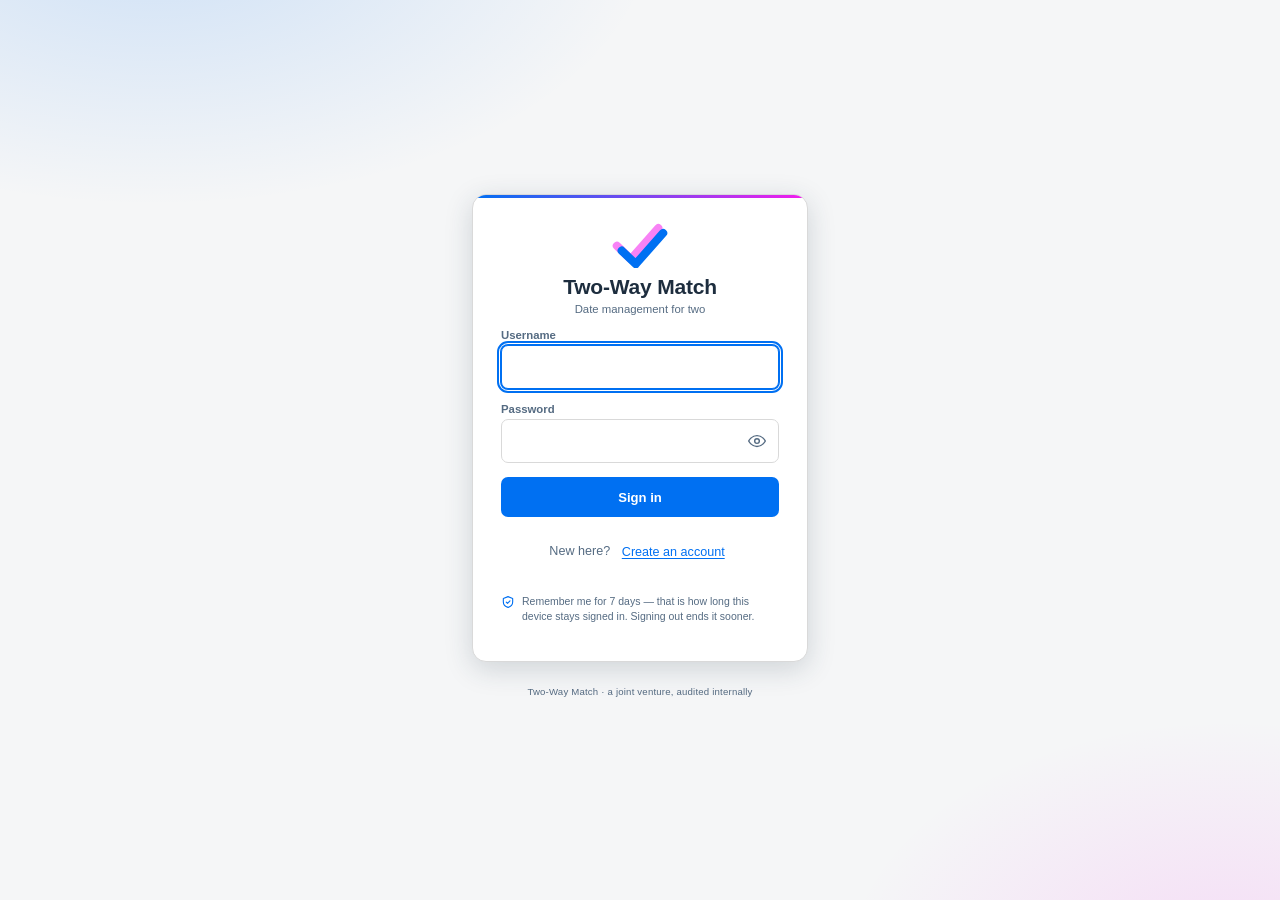
Test case: LoginPage › shows a failed login inline, with no alert and no navigation
Type "ada" into the field labelled "Username" at (640, 367), box [501,345,779,389]
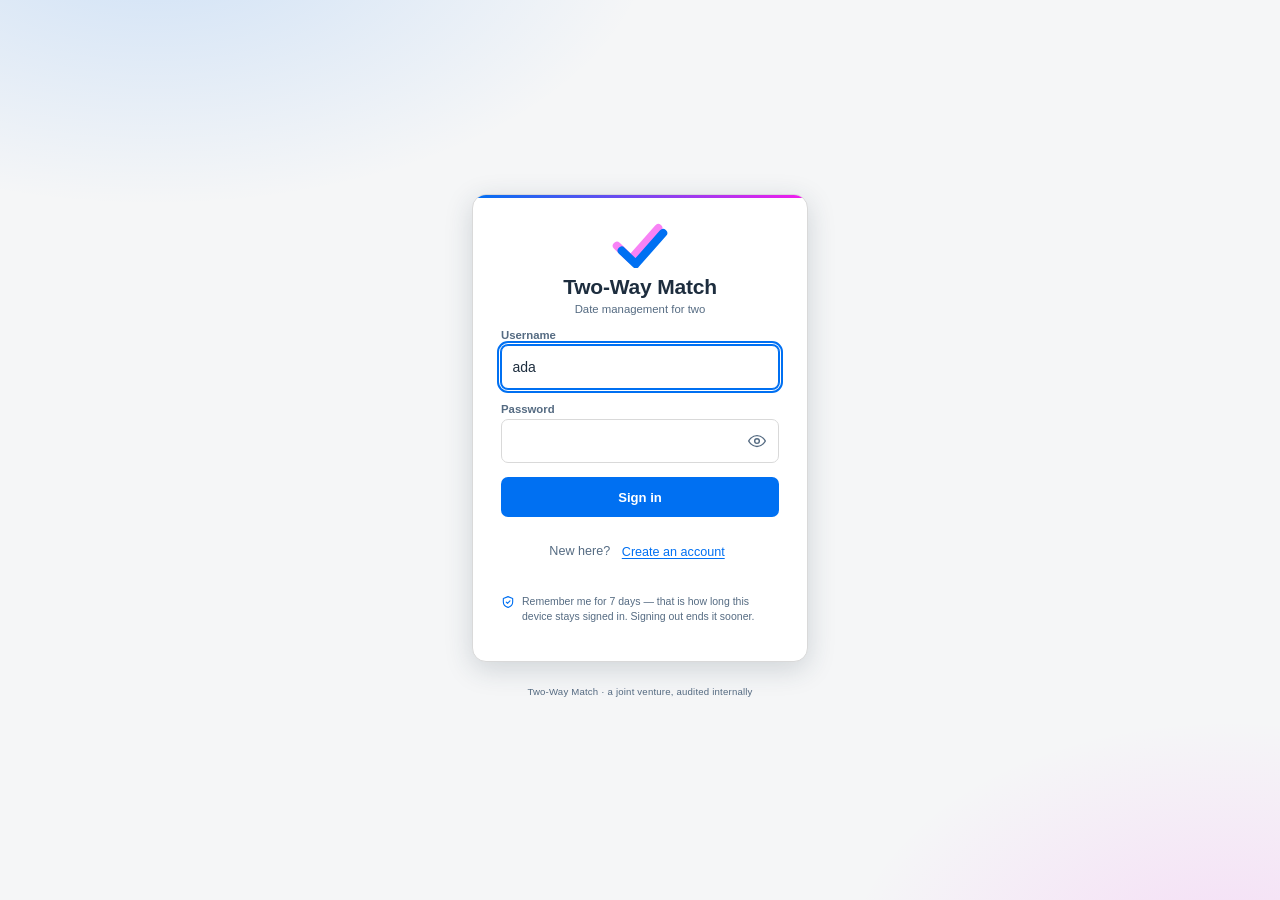
Type "wrong" into the password field labelled "Password" at (640, 441), box [501,419,779,463]
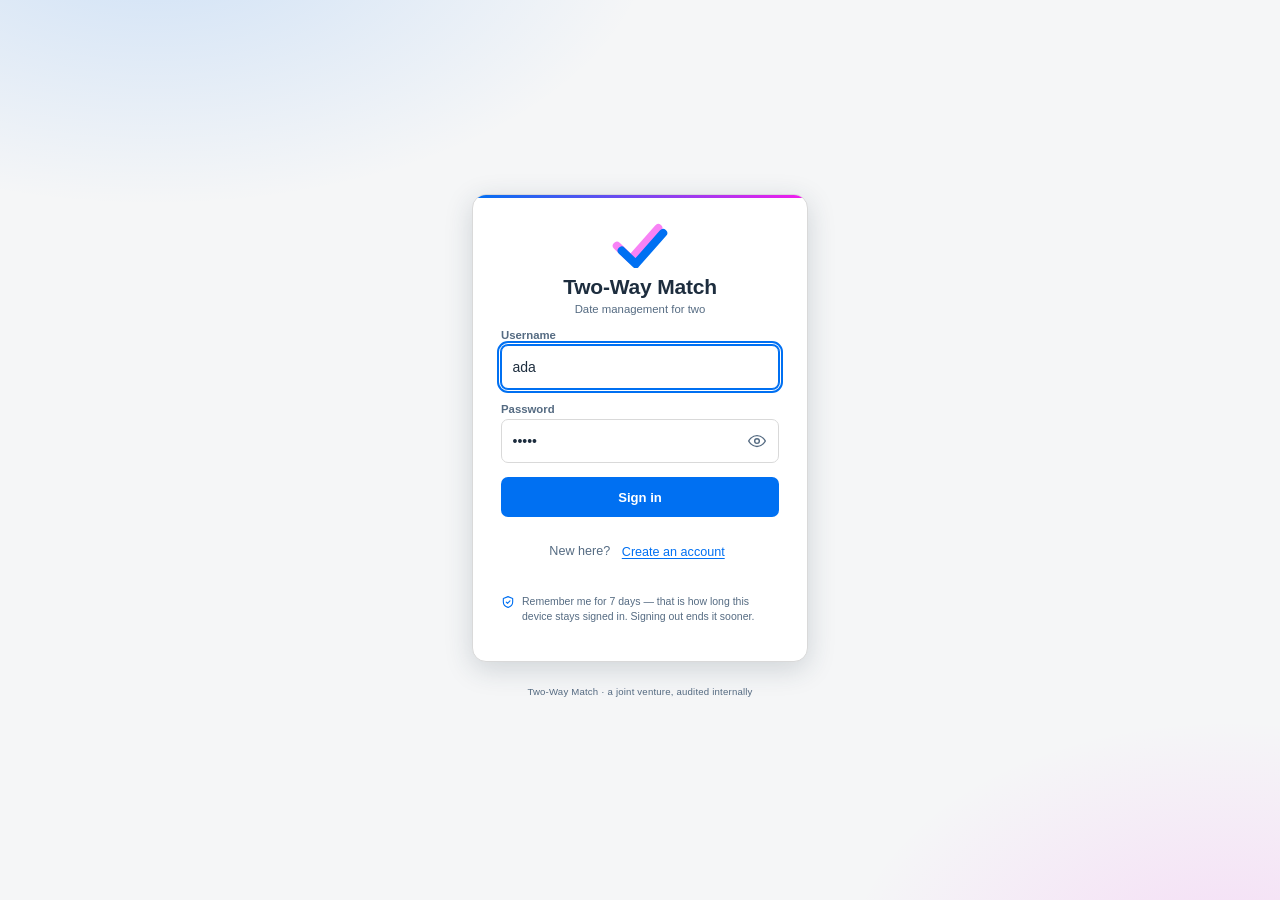
Click the button "Sign in" at (640, 497), box [501,477,779,517]
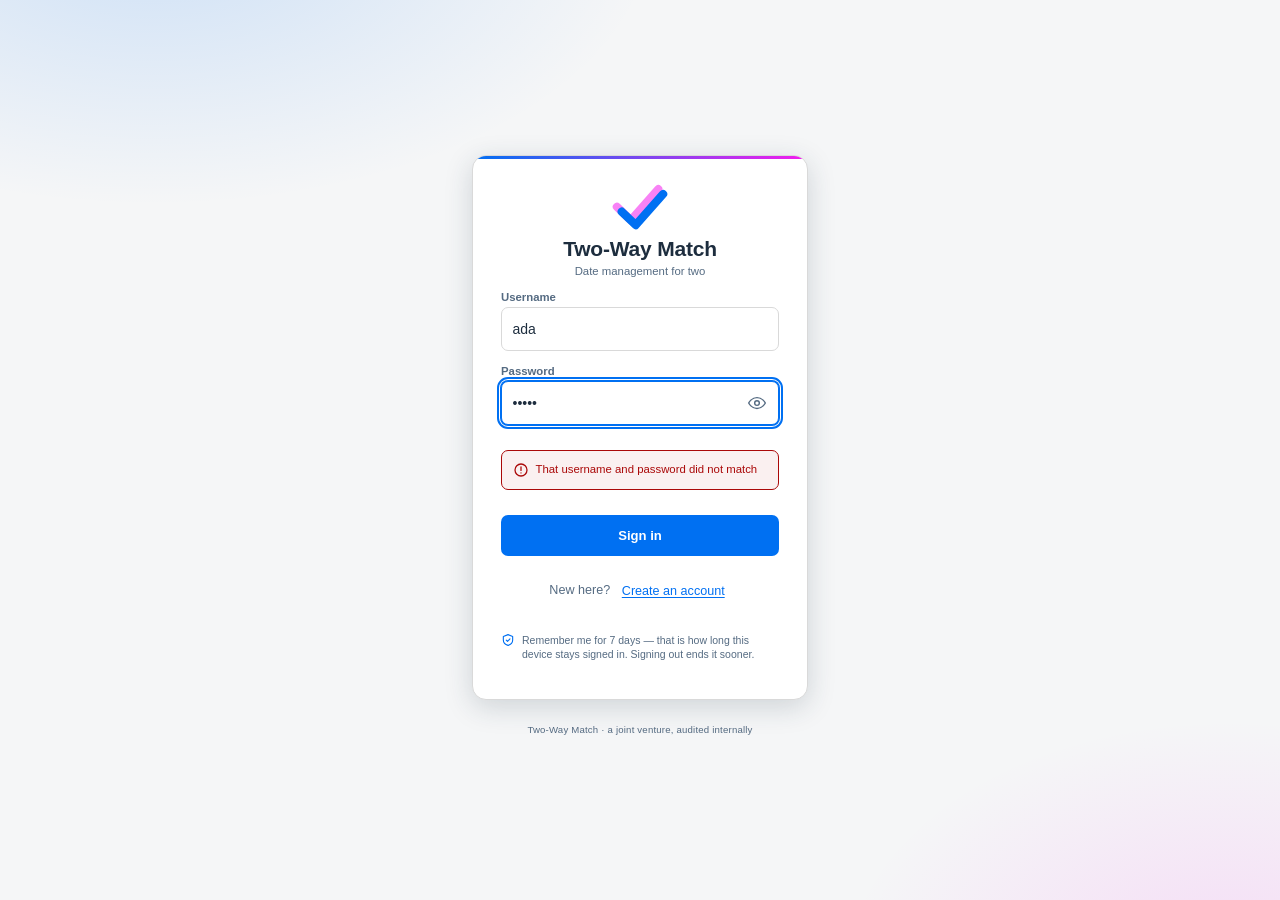
Expected: the message does not show "401", [501,450,779,490]
Expected: the message reads "That username and password did not match", [536,463,757,475]
